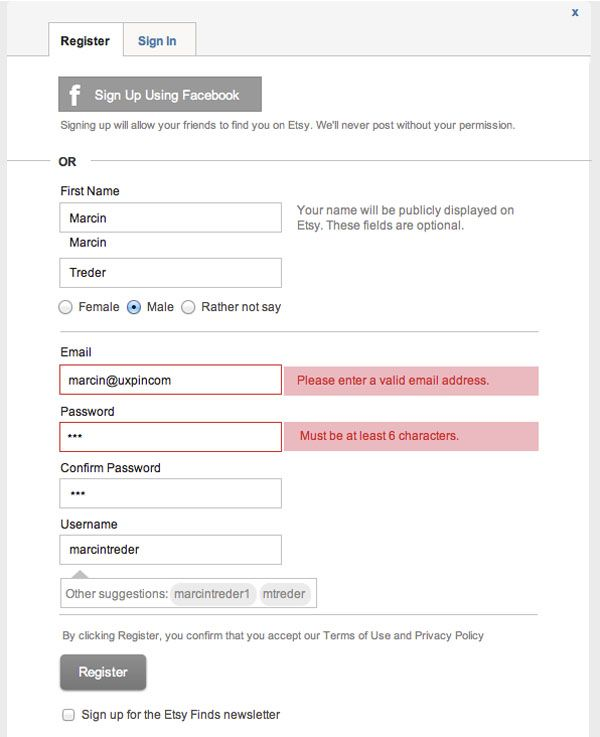error_field: (61, 362, 282, 396), (59, 420, 282, 453)
error_message: (295, 372, 493, 388), (297, 429, 459, 442)
